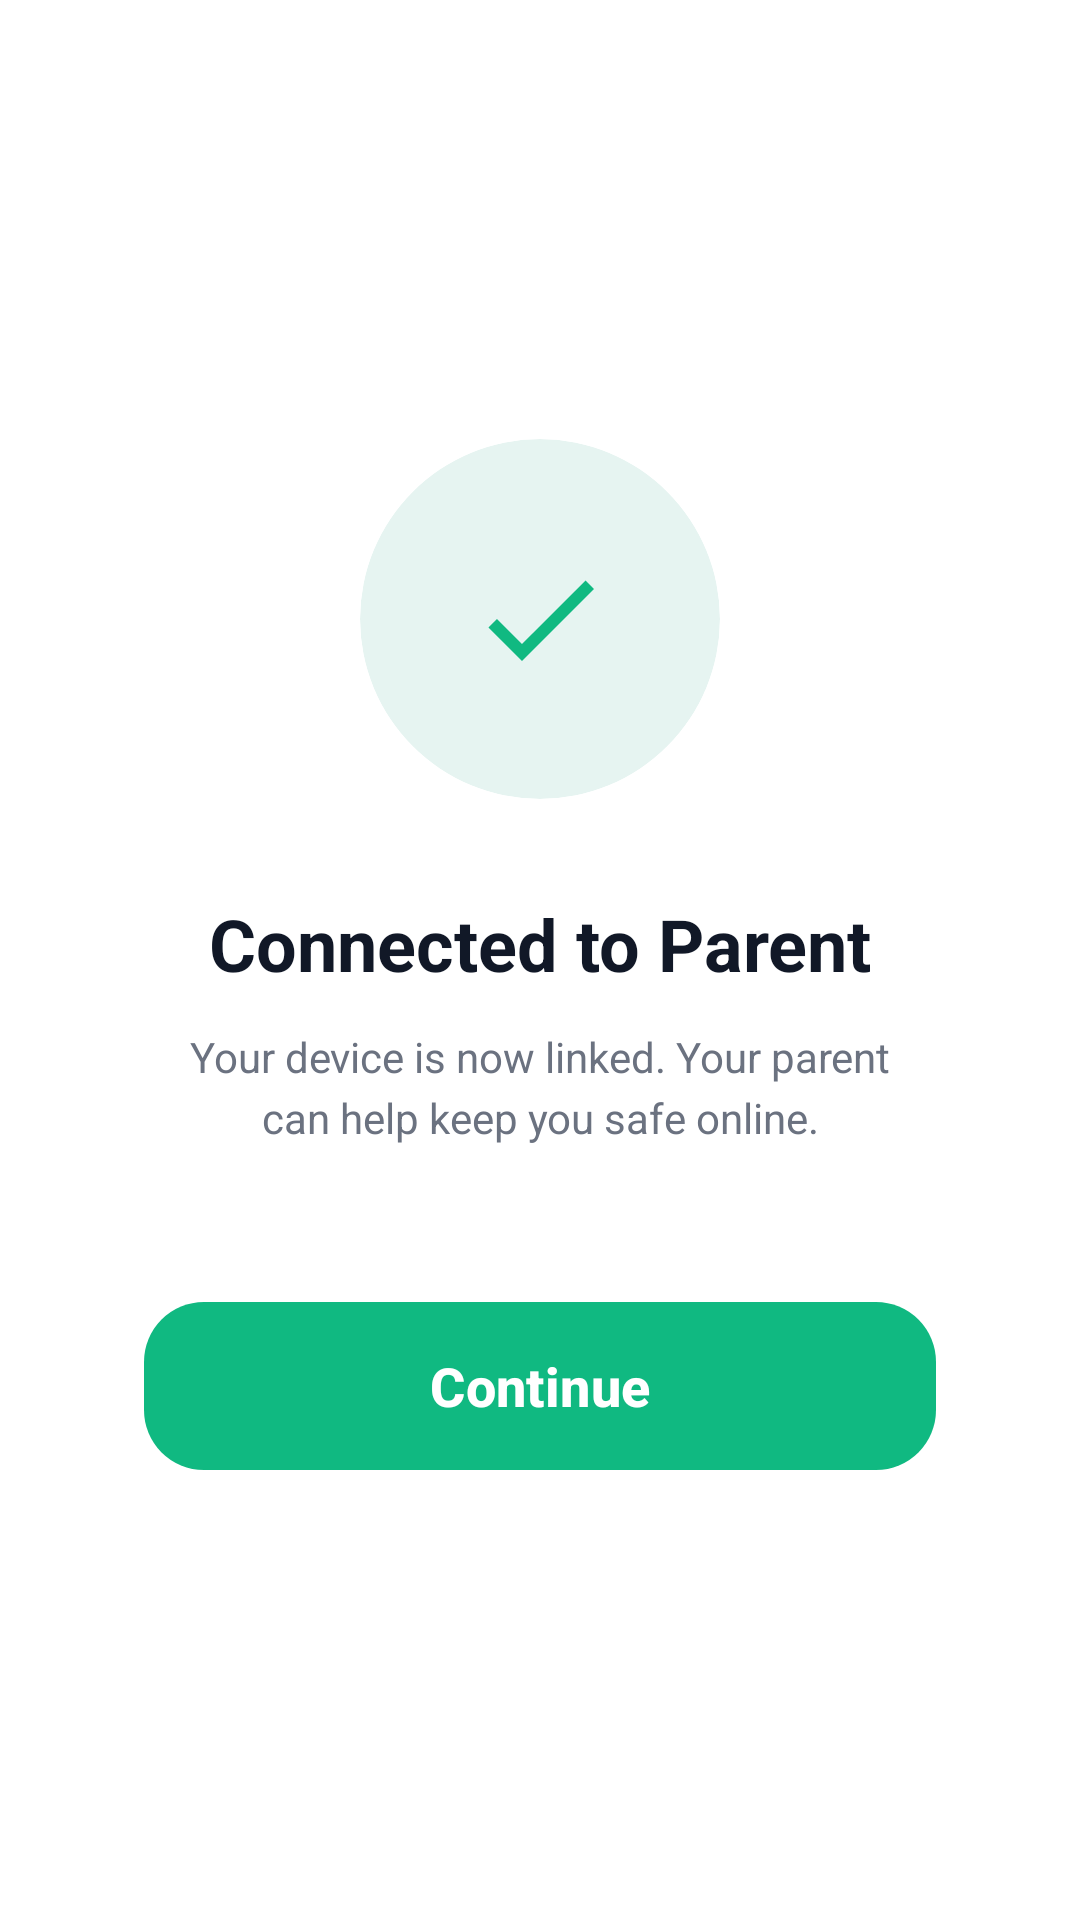

Point at icon controls on the screen. Image size 1080*1920, points as point (x, y).
check: point (541, 620)
